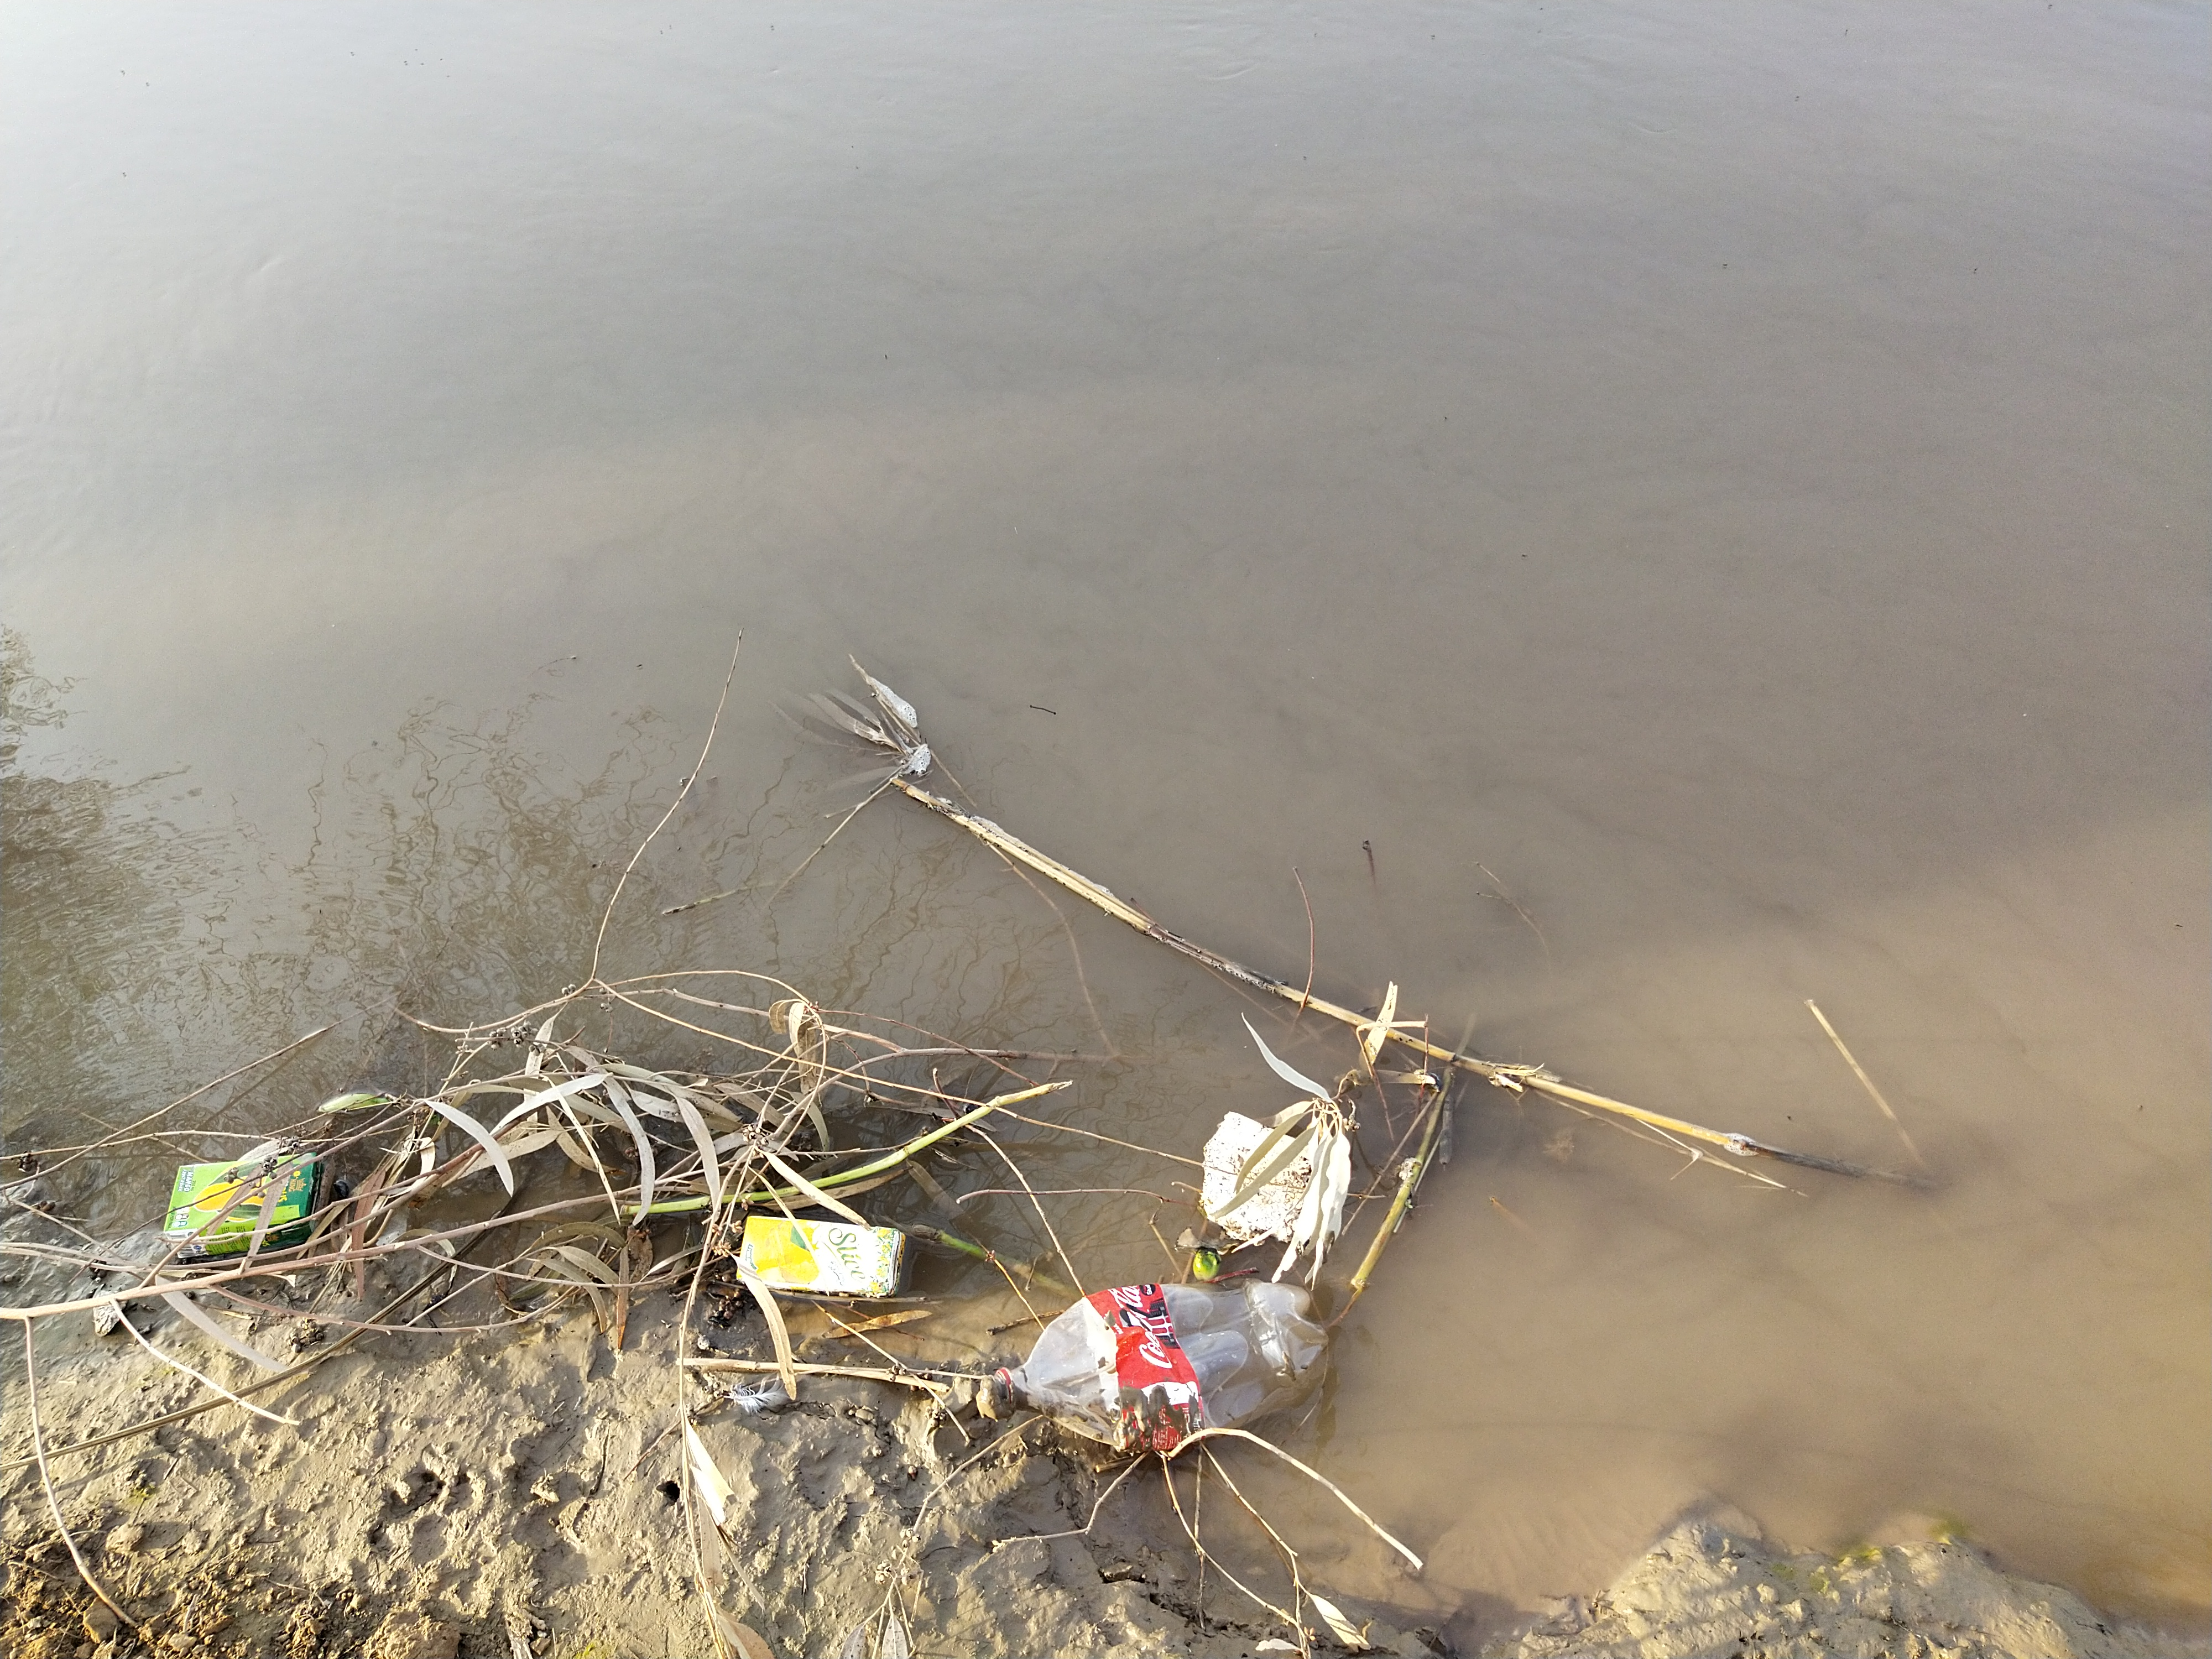Plastic Bottle: (995, 1283, 1329, 1455)
